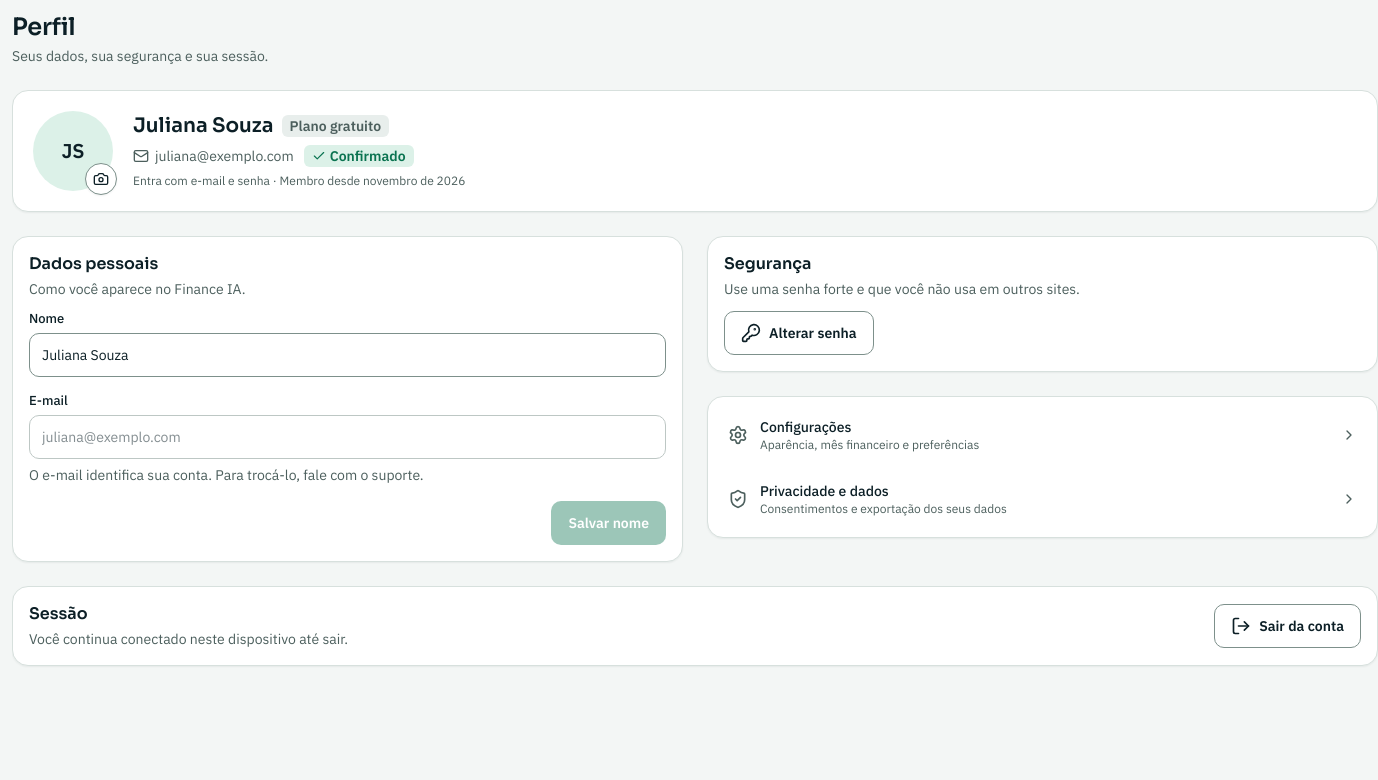
Test case: Perfil › valida e salva o novo nome
Expected: the heading "Juliana Souza" is shown, [133, 113, 274, 139]
Expected: the button "Salvar nome" is disabled, [551, 501, 666, 545]
Replace the text in the field labelled "Nome" with "J" at (348, 355), box [42, 334, 653, 376]
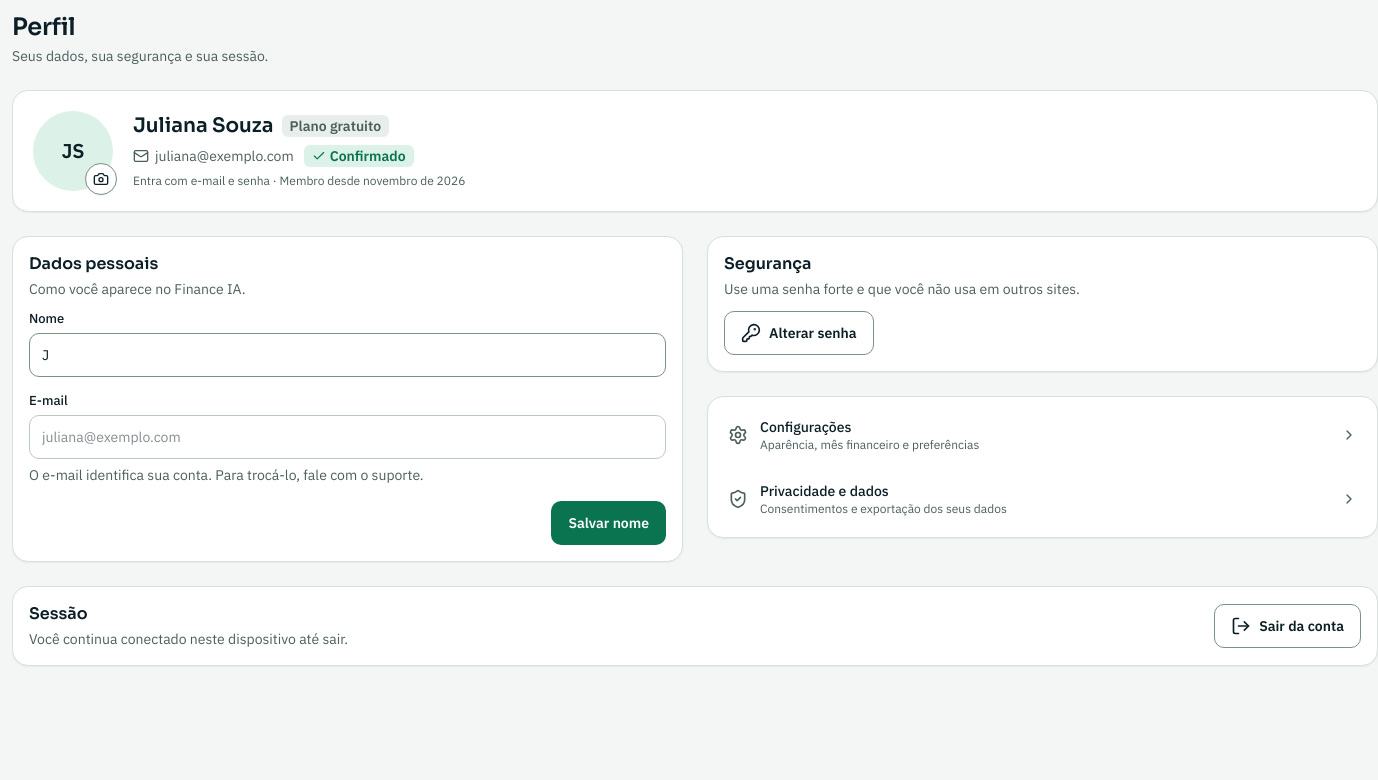
Click the button "Salvar nome" at (609, 523), box [551, 501, 666, 545]
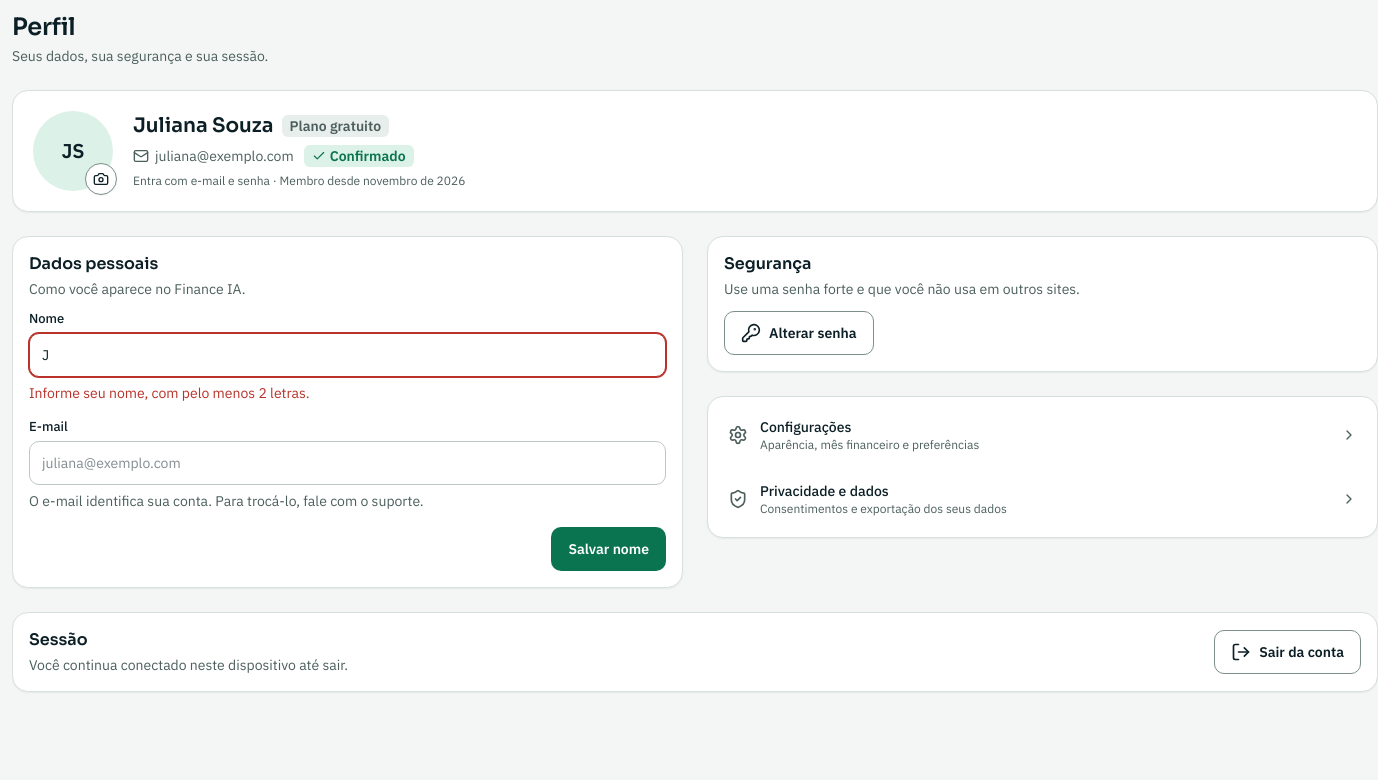
Expected: the text "Informe seu nome, com pelo menos 2 letras." is shown, [29, 384, 310, 402]
Replace the text in the field labelled "Nome" with "Juliana S." at (348, 355), box [42, 334, 653, 376]
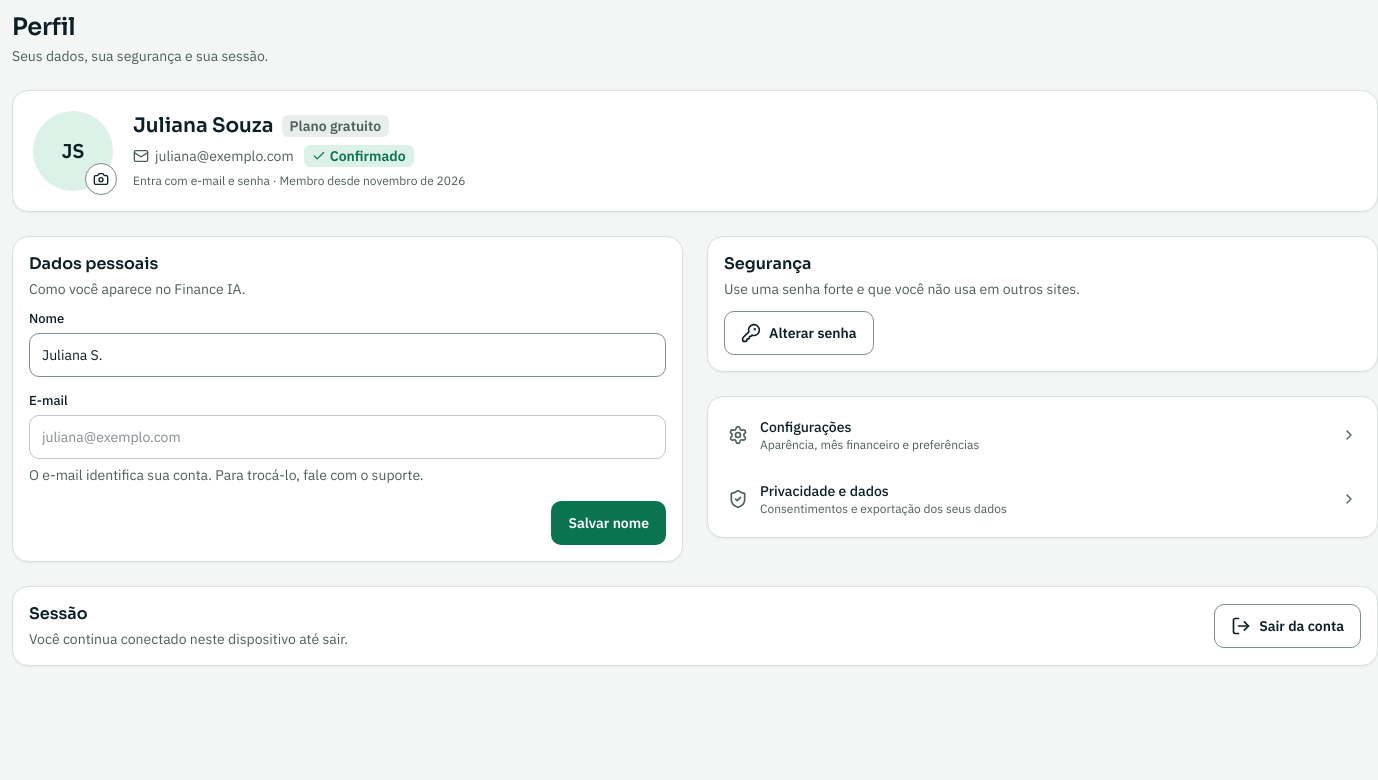
Click the button "Salvar nome" at (609, 523), box [551, 501, 666, 545]
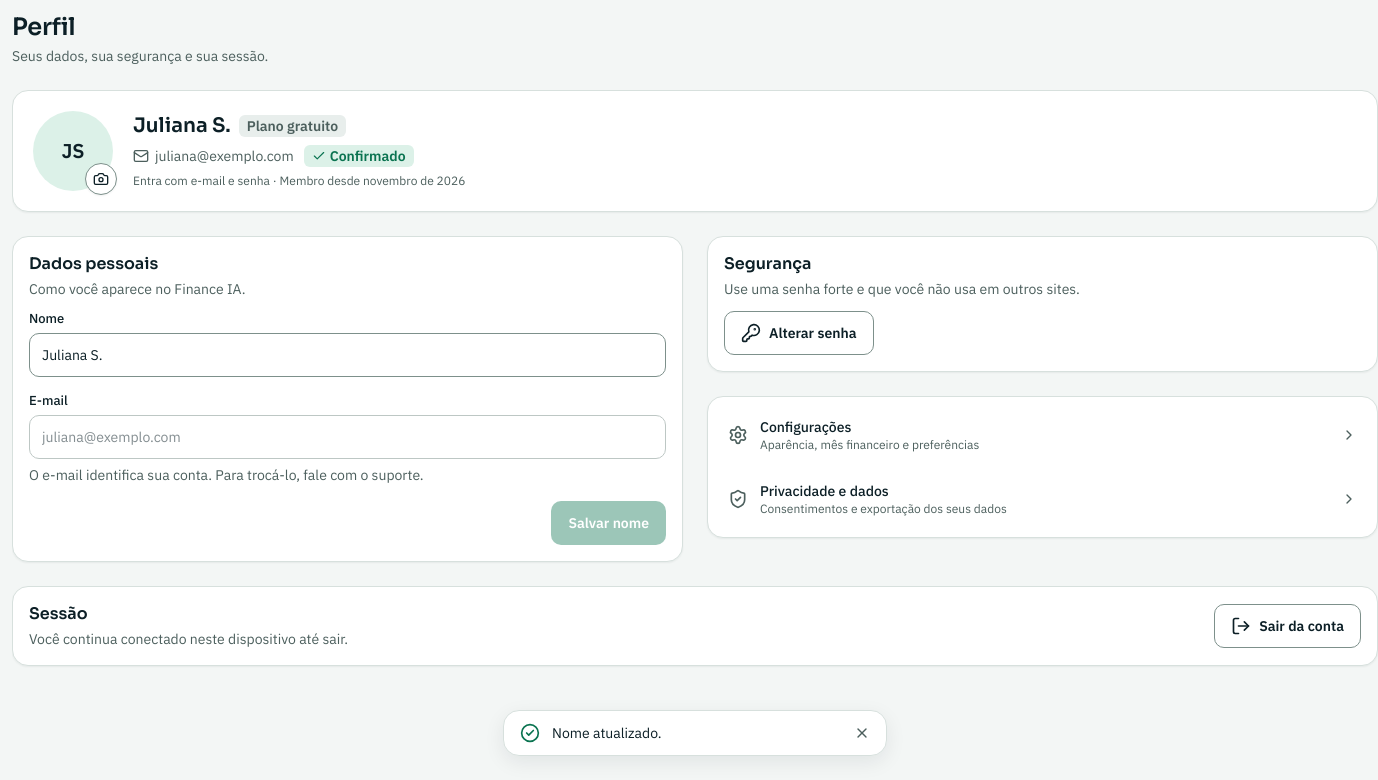
Expected: the heading "Juliana S." is shown, [133, 113, 231, 139]
Expected: the text "Nome atualizado." is shown, [552, 724, 662, 742]
